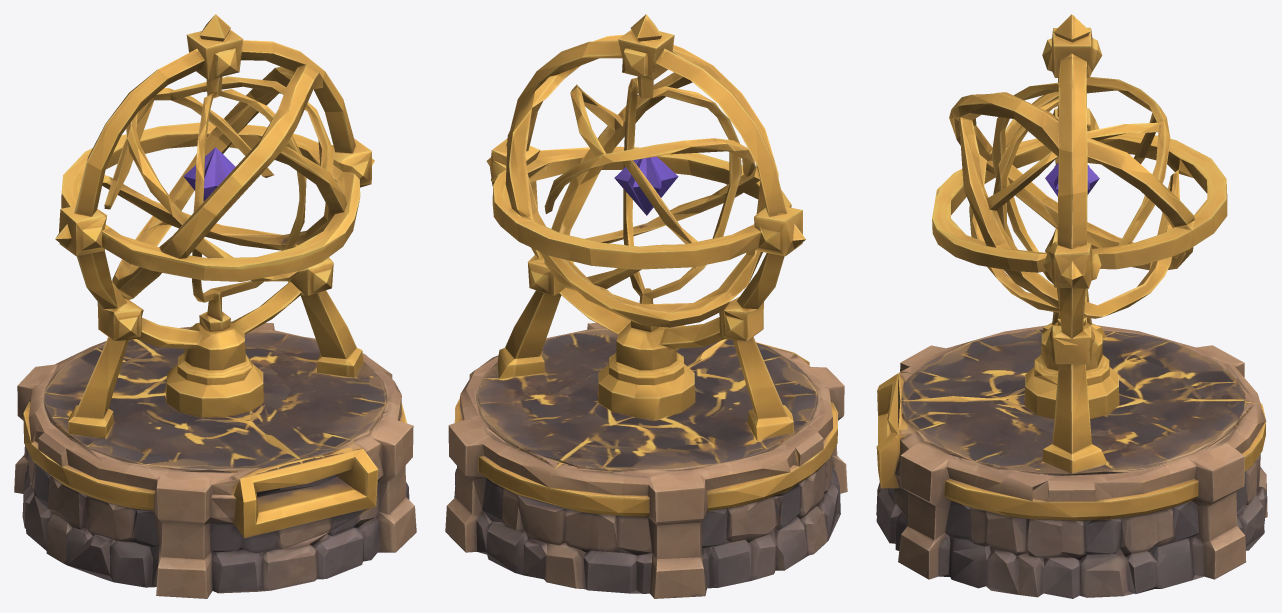
The model's file is TWN_PRP_mapdevice_A.glb.
3 views of the same model, side by side, from view 1: azimuth 30°, elevation 25°; view 2: azimuth 150°, elevation 25°; view 3: azimuth 270°, elevation 25° (orthographic).
Parts seen in each view (by area): view 1: Mesh_0; view 2: Mesh_0; view 3: Mesh_0.
Part boxes in pixels (<box>): Mesh_0: <box>14,14,416,598</box>; Mesh_0: <box>445,14,847,598</box>; Mesh_0: <box>876,14,1267,598</box>.
Size of the model in its own units: 1.33 by 1.89 by 1.33.
Materials: 1 (1 with a texture image).
